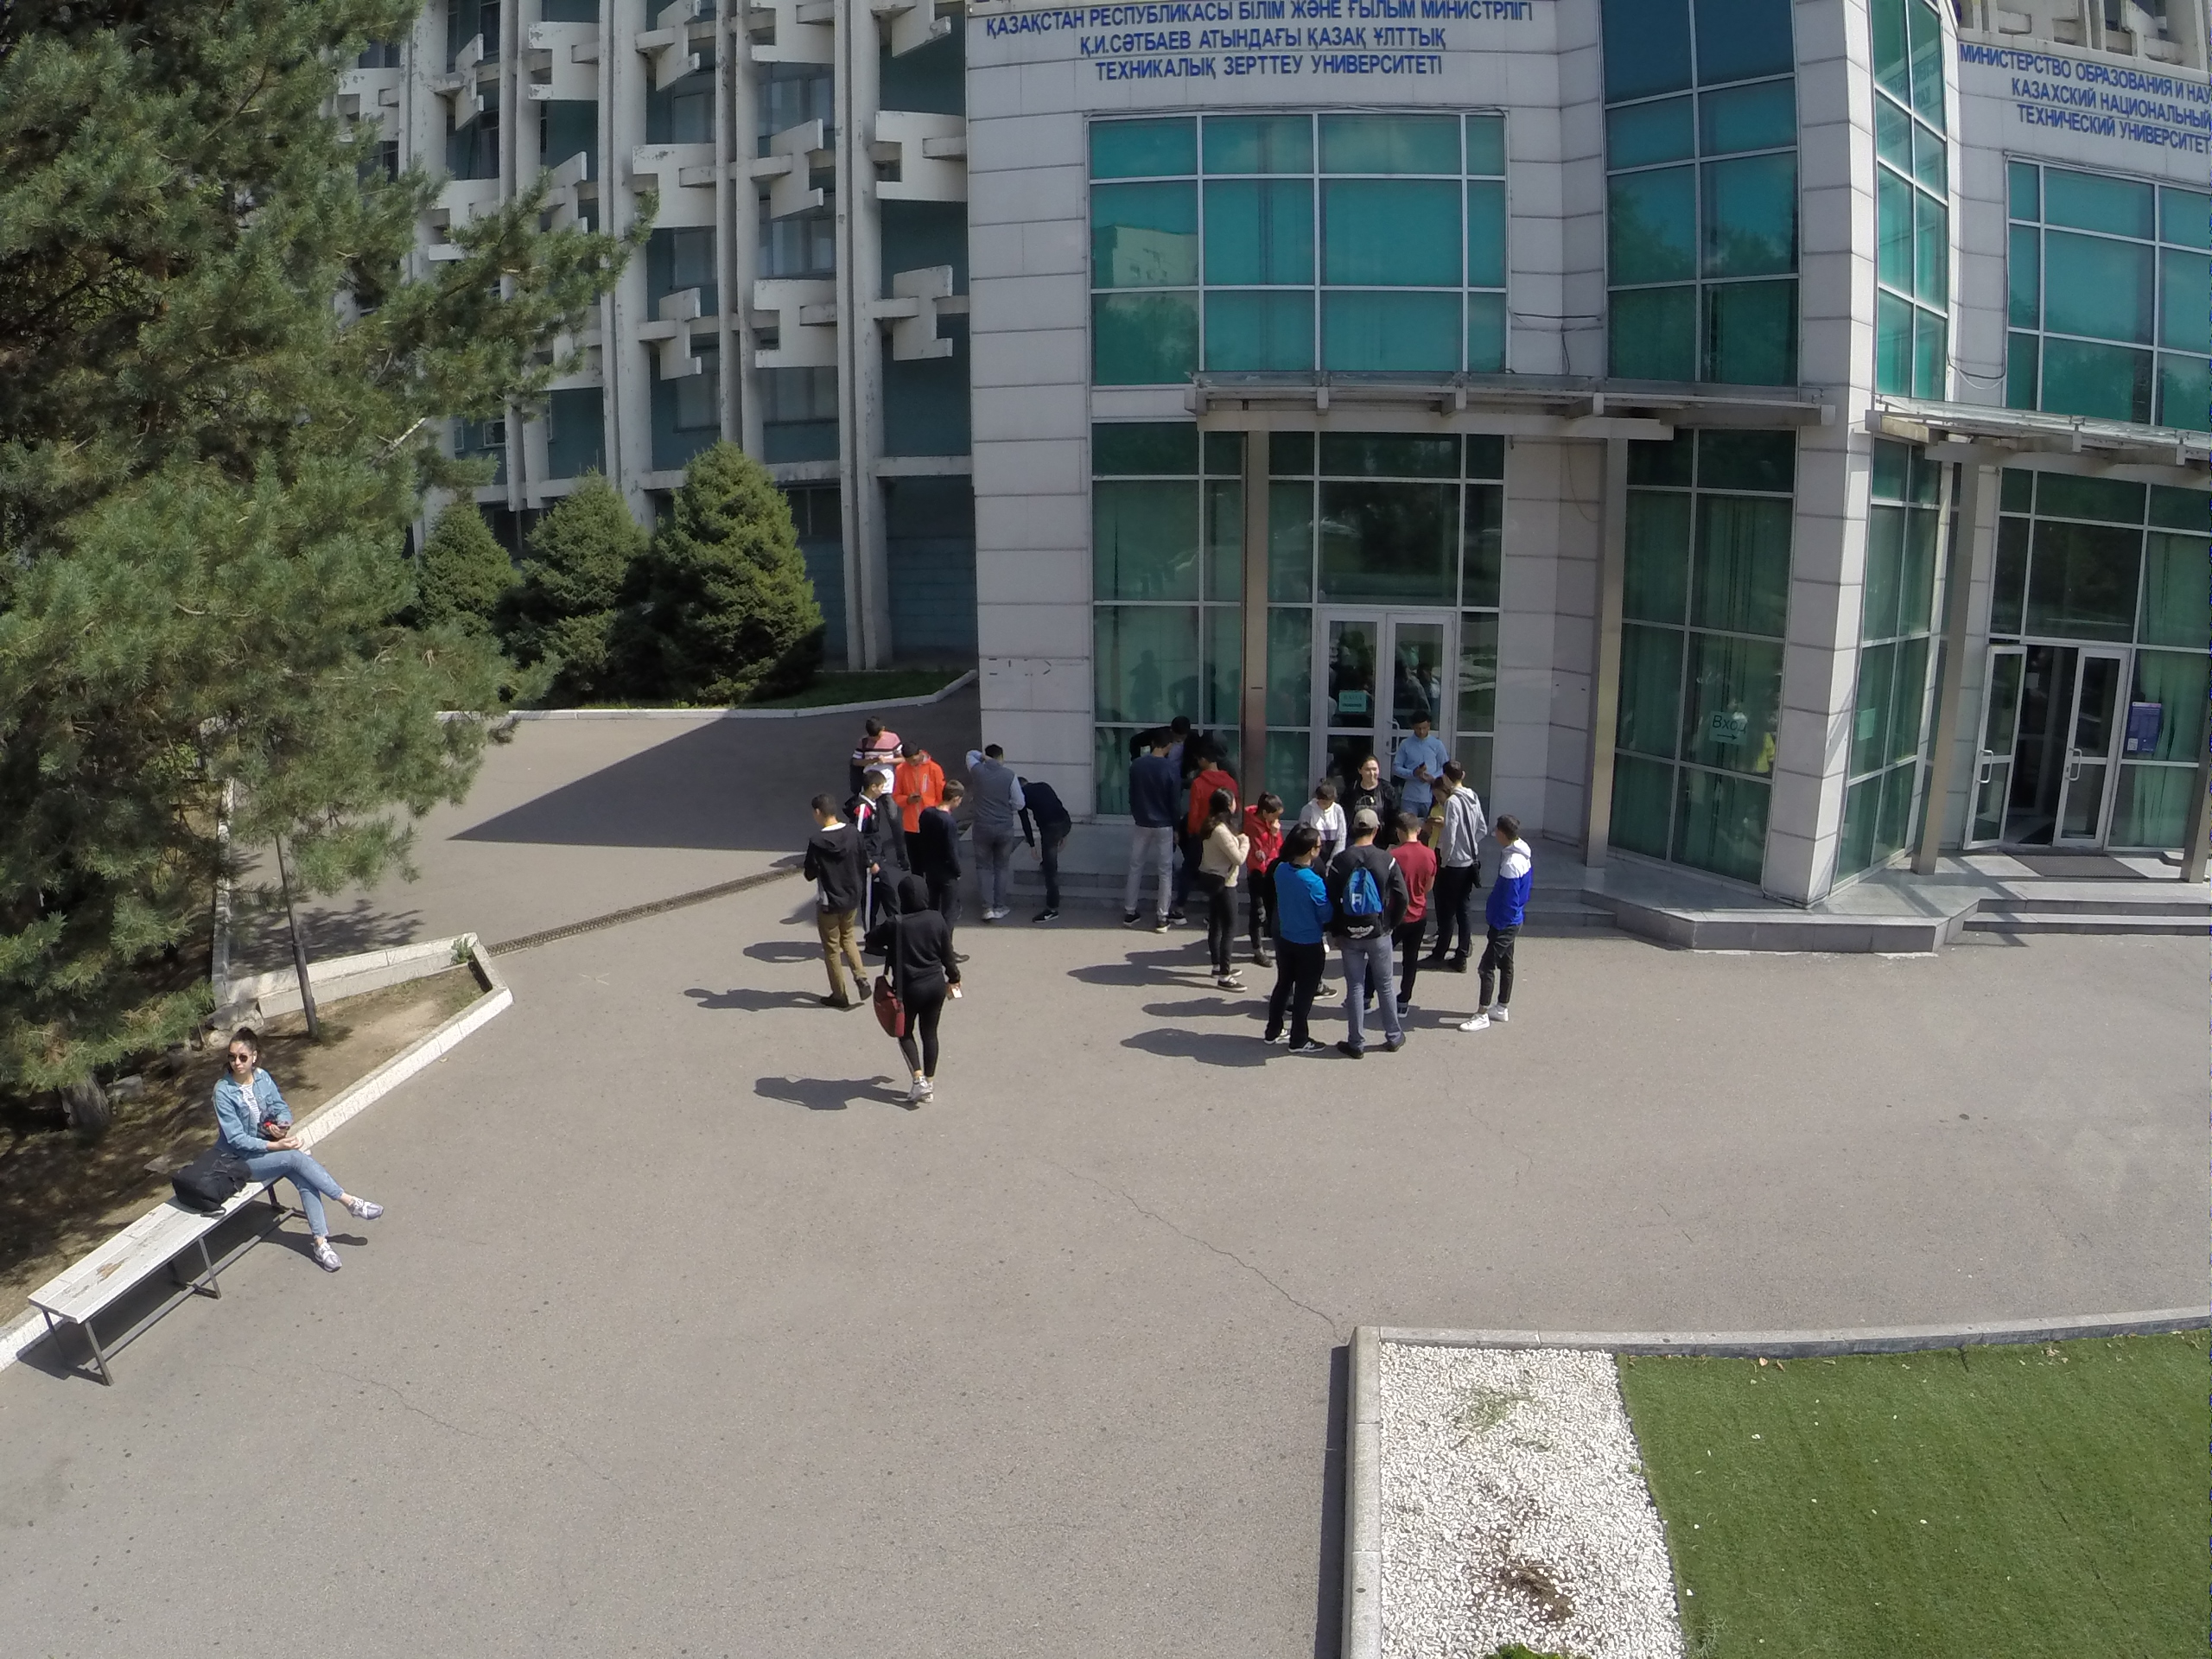person: (204, 1027, 385, 1281), (890, 874, 962, 1117), (1339, 811, 1398, 1062), (801, 794, 866, 1014), (1268, 838, 1330, 1053), (1476, 811, 1532, 1029), (1433, 753, 1484, 978), (1128, 734, 1179, 948), (1011, 768, 1073, 938), (1201, 788, 1251, 1000), (966, 742, 1008, 939), (1395, 820, 1435, 1008), (1179, 750, 1228, 896), (849, 775, 889, 929), (1254, 791, 1284, 951), (918, 783, 963, 878), (894, 741, 934, 815), (1403, 712, 1439, 793), (1345, 760, 1383, 820), (857, 719, 893, 775), (1308, 787, 1335, 843)
